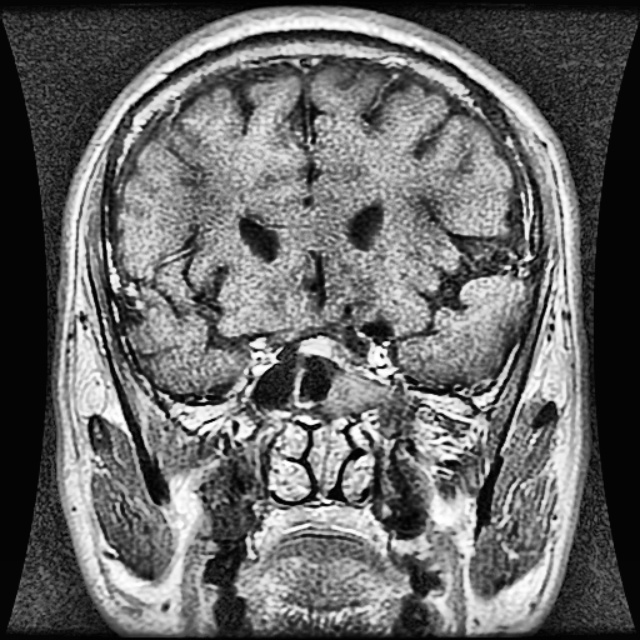Pituitary: (299, 337, 333, 355)
